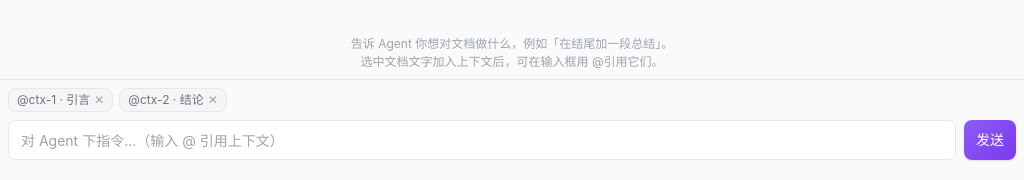
Scenario: AgentPanel — @ mention autocomplete › offers @document and attached contexts after typing @
In the text box with placeholder "对 Agent 下指令…（输入 @ 引用上下文）": {"x": 482, "y": 140} [8,120,956,160], type "@"
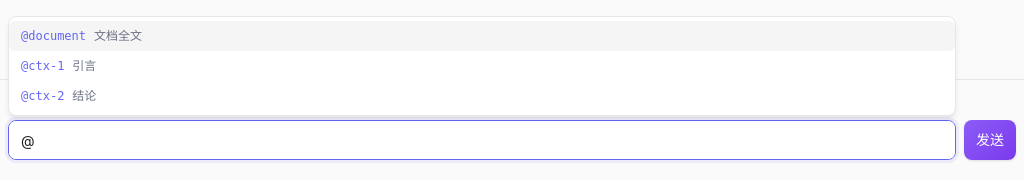
Expected: the text "@document" is shown, [21,27,86,45]
Expected: the text "@ctx-1" is shown, [21,57,64,75]
Expected: the text "@ctx-2" is shown, [21,87,64,105]
